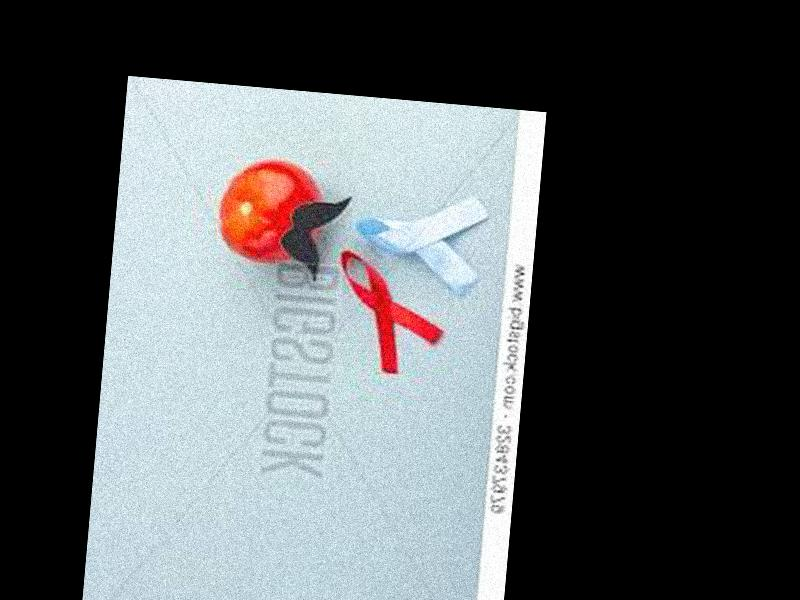Tomato: (215, 156, 325, 268)
